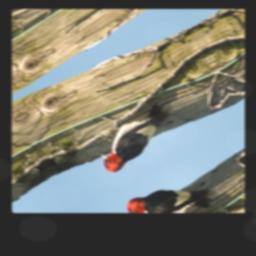Woodpecker: (86, 93, 184, 176)
